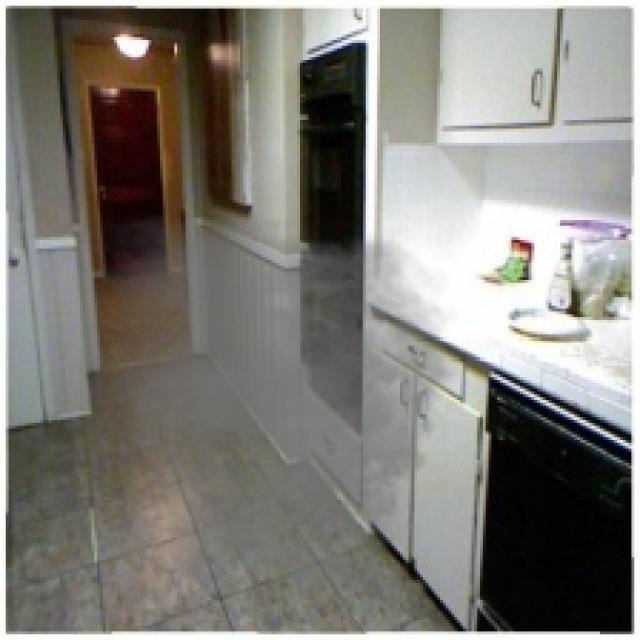Smoke: (80, 214, 474, 603)
